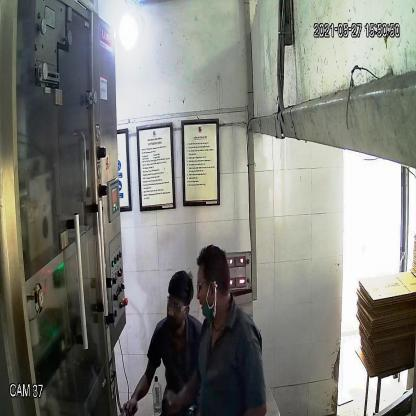goggles: (162, 291, 192, 315)
